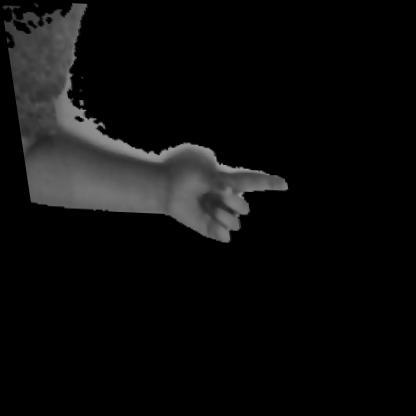one: (85, 119, 304, 252)
